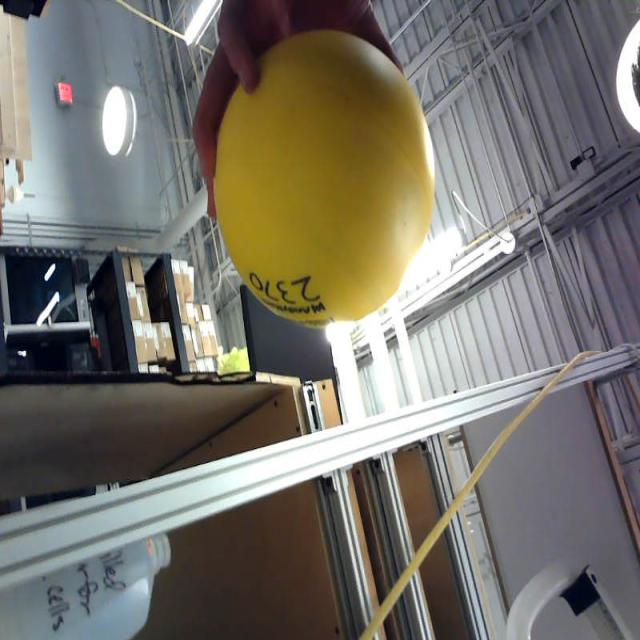Fuel: (213, 29, 436, 328)
